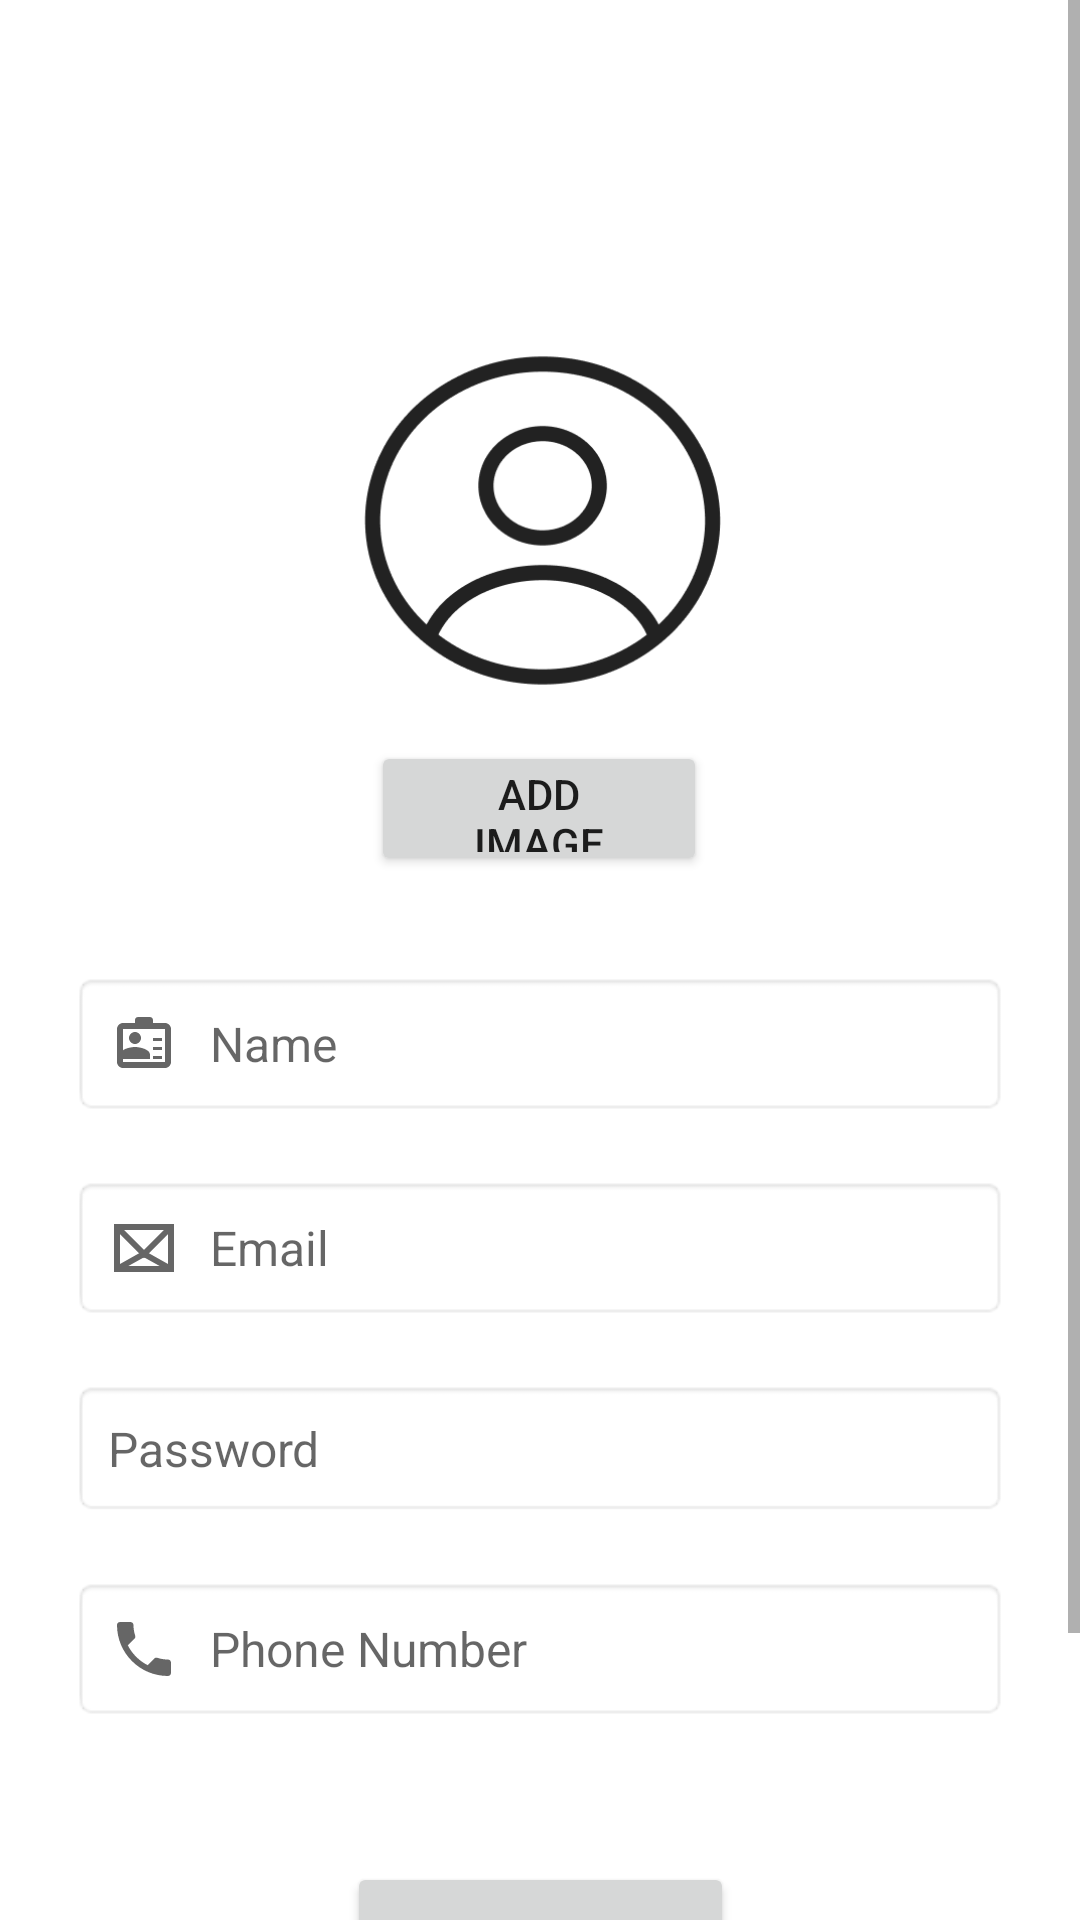

Screen size 1080×1920. Icon name, then its box in pixels as box=[x1, y1, x2, y2]:
user circle: box=[364, 356, 721, 685]
